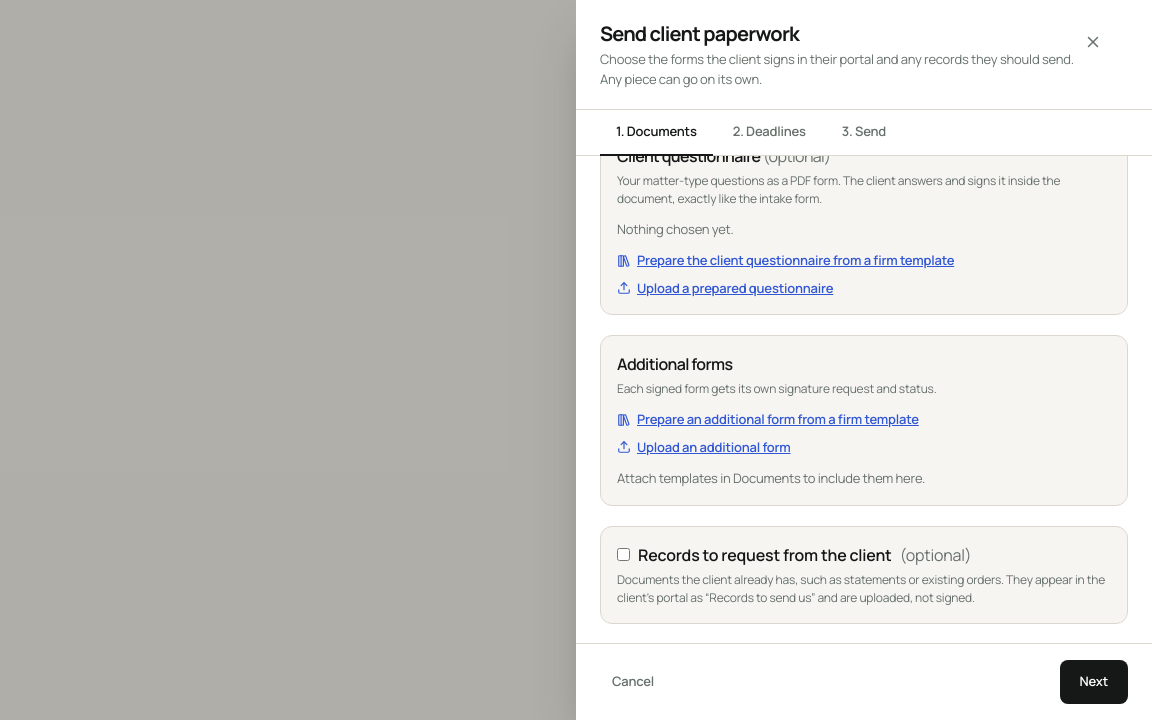
will not send a packet with nothing included
This screenshot has width=1152, height=720.
(page scrolled)
Note: Switching records on without listing any is still nothing.
Click the checkbox labelled "Records to request from the client (optional)" at point(624, 554), box [617,548,630,561]
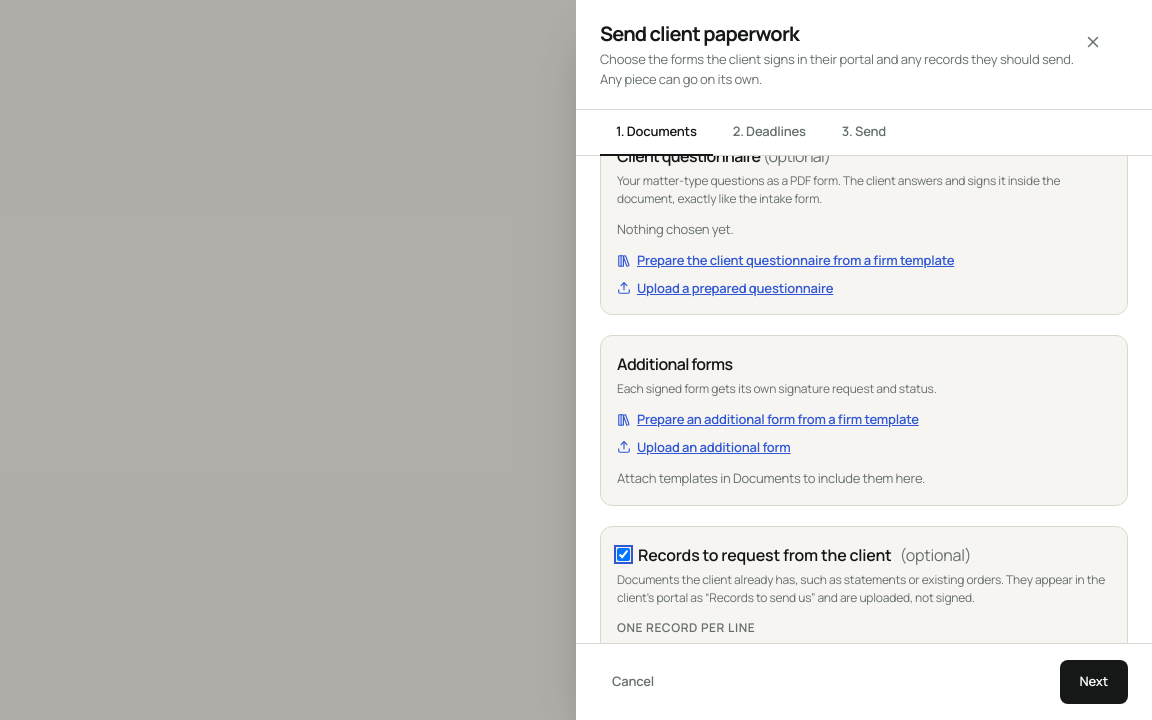
Click the button "3. Send" at point(864, 133), box [826,110,902,156]
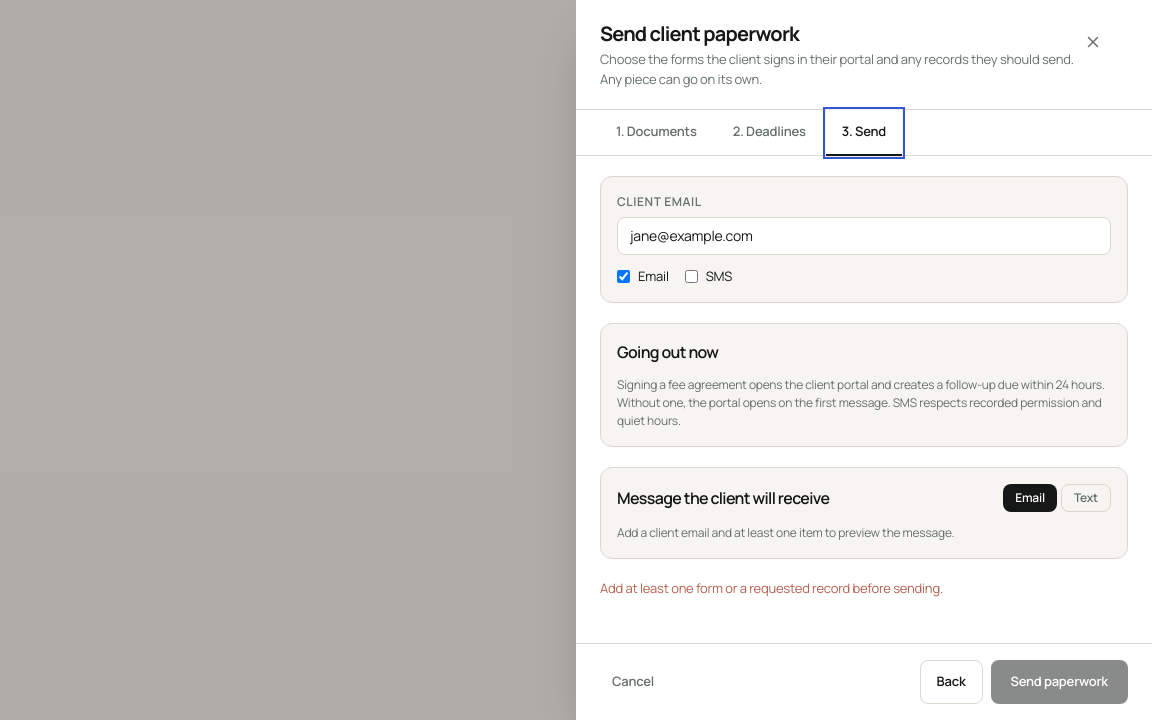
Expected: the button "Send paperwork" is disabled, [991,660,1128,704]
Expected: the message shows "at least one", [600,579,943,597]
